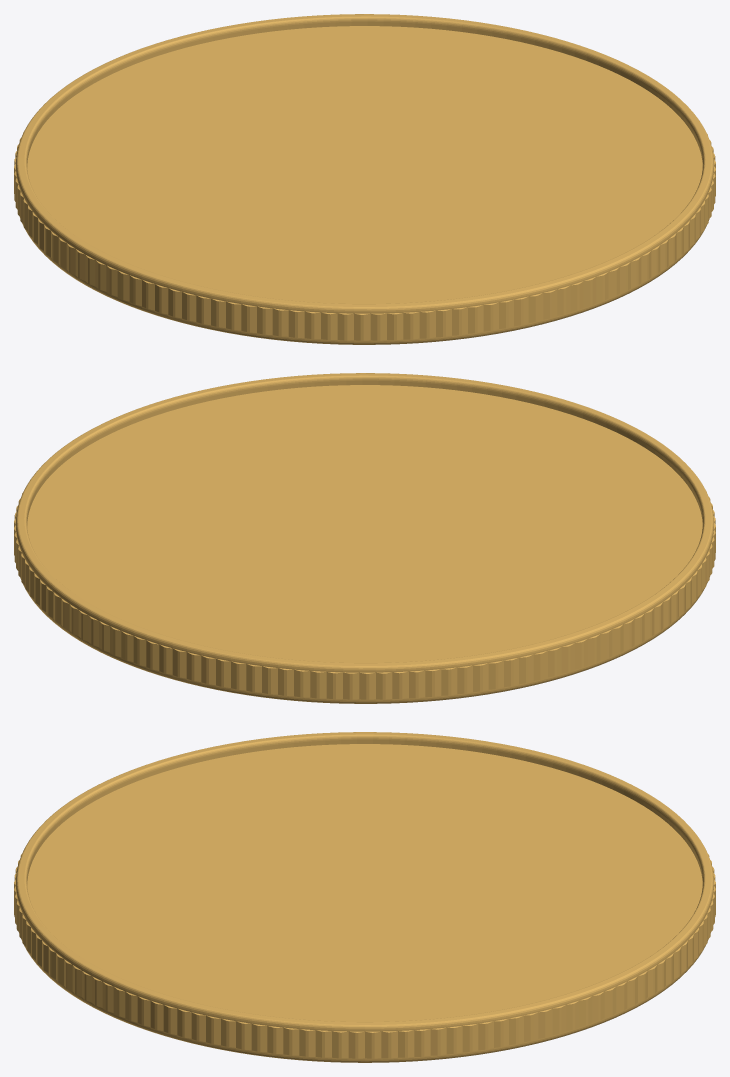
File: Coin.fbx
The picture shows the model from 3 angles, top to bottom: view 1: azimuth 30°, elevation 25°; view 2: azimuth 150°, elevation 25°; view 3: azimuth 270°, elevation 25°; orthographic projection.
Parts seen in each view (by area): view 1: pCylinder6; view 2: pCylinder6; view 3: pCylinder6.
Boxes of the visible parts, x1=… form: pCylinder6: x1=14, y1=14, x2=715, y2=344; pCylinder6: x1=14, y1=373, x2=715, y2=703; pCylinder6: x1=14, y1=732, x2=715, y2=1062.
Size of the model in its own units: 8.31 by 0.5 by 8.31.
